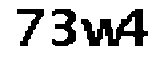3: (46, 3, 79, 50)
4: (120, 8, 152, 49)
7: (13, 6, 46, 49)
w: (78, 14, 122, 49)
